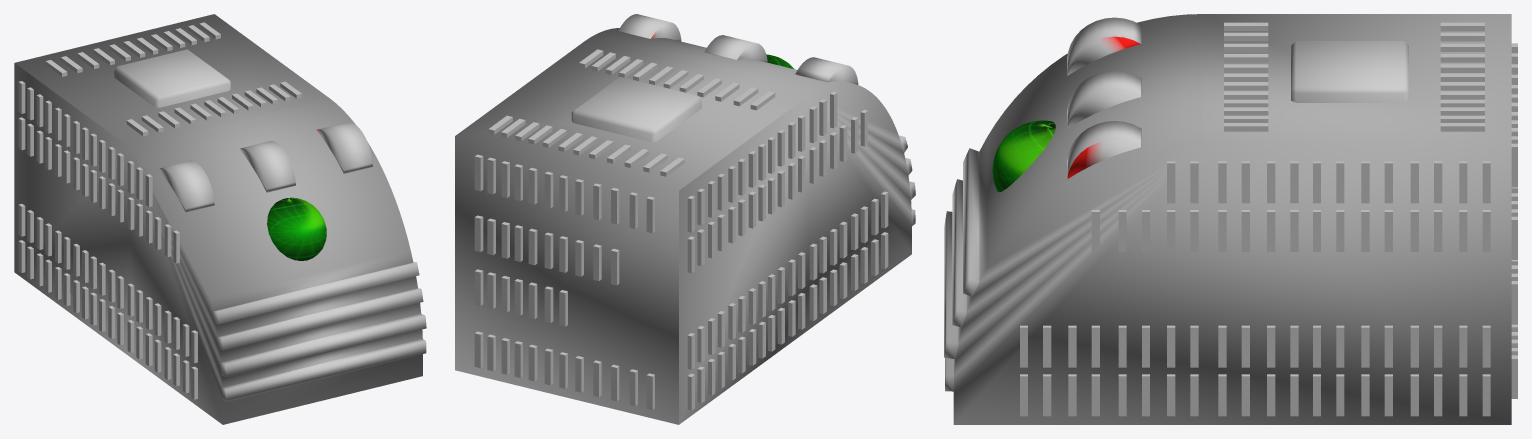
File: Autopilot-Block_Large.fbx
The picture shows the model from 3 angles, left to right: view 1: azimuth 30°, elevation 25°; view 2: azimuth 150°, elevation 25°; view 3: azimuth 270°, elevation 25°; orthographic projection. The views are drawn at different scales.
Parts seen in each view (by area): view 1: MainCube, RedCube, ThreeCylinder, TopCube, RadarSphere; view 2: MainCube, RedCube, TopCube, ThreeCylinder; view 3: MainCube, RedCube, ThreeCylinder, TopCube, RadarSphere.
Part boxes in pixels (x1,y1,x2,y2): MainCube: (14, 14, 426, 424); RedCube: (18, 22, 301, 399); ThreeCylinder: (158, 122, 372, 212); TopCube: (114, 49, 230, 107); RadarSphere: (267, 197, 326, 260); MainCube: (455, 28, 915, 424); RedCube: (474, 49, 888, 410); TopCube: (571, 77, 701, 141); ThreeCylinder: (618, 14, 858, 84); MainCube: (944, 14, 1511, 424); RedCube: (1020, 22, 1517, 416); ThreeCylinder: (1067, 17, 1141, 178); TopCube: (1291, 41, 1408, 102); RadarSphere: (992, 120, 1055, 192).
Size of the model in its own units: 259 by 263 by 464.
